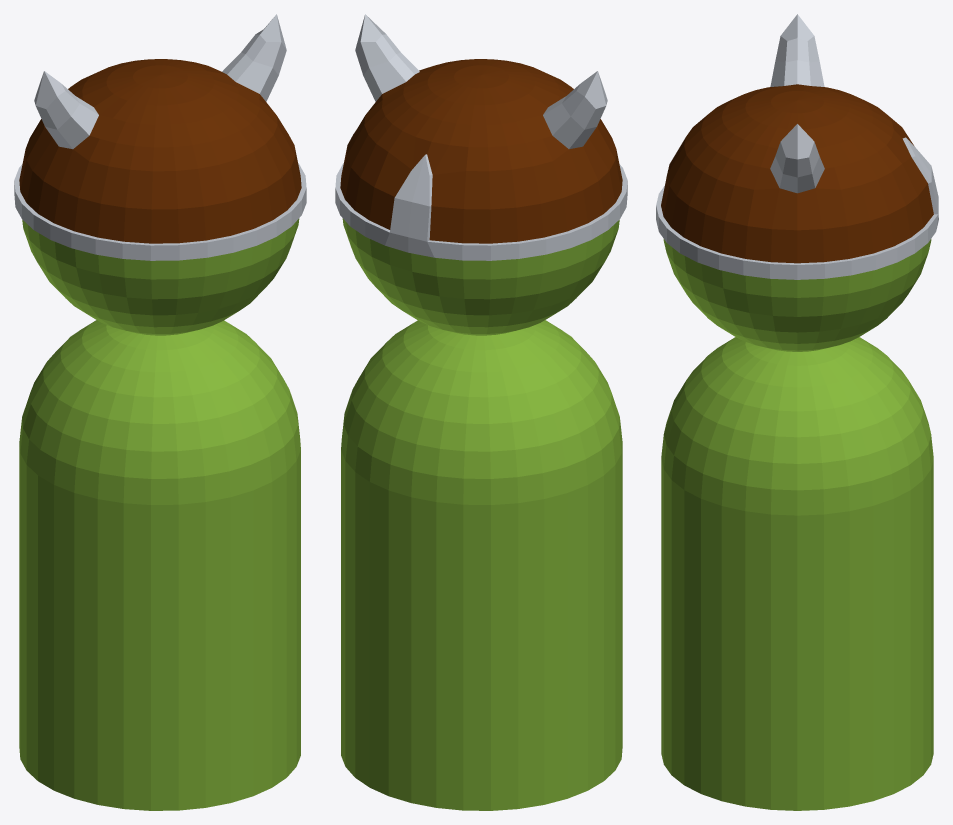
The model's file is goblin.fbx.
The picture shows the model from 3 angles, left to right: view 1: azimuth 30°, elevation 25°; view 2: azimuth 150°, elevation 25°; view 3: azimuth 270°, elevation 25°; orthographic projection. The views are drawn at different scales.
Visible parts, largest first — view 1: Goblin_body, Goblin_head; view 2: Goblin_body, Goblin_head; view 3: Goblin_body, Goblin_head.
Part boxes in pixels (x1,y1,x2,y2): Goblin_body: (19,320,300,810); Goblin_head: (14,14,306,335); Goblin_body: (341,320,622,810); Goblin_head: (335,14,627,335); Goblin_body: (661,337,933,810); Goblin_head: (656,14,938,351).
Size of the model in its own units: 207 by 554 by 207.
